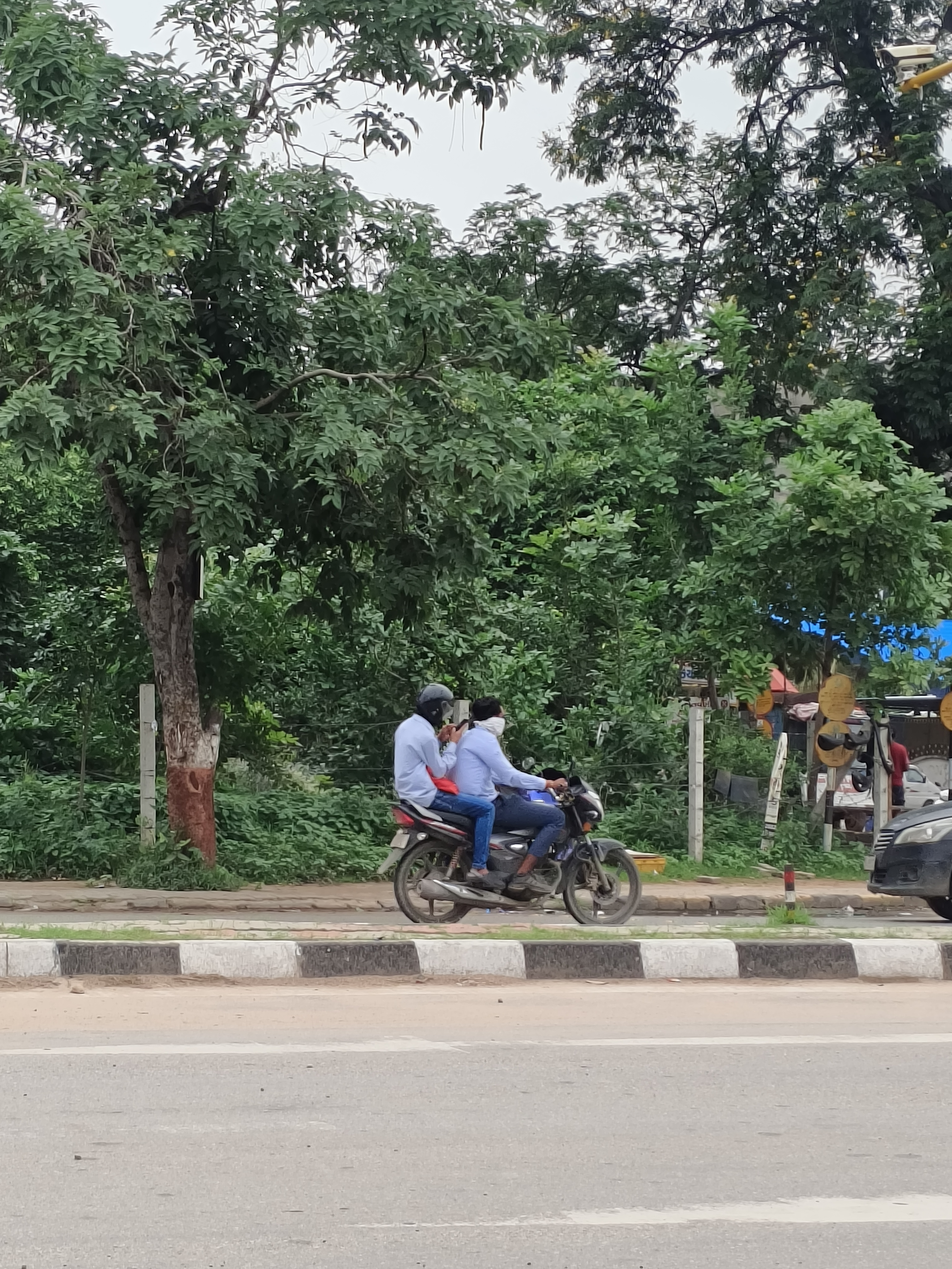BikeWithRider: (379, 674, 649, 929)
Helmet: (412, 680, 455, 731)
NoHelmet: (465, 690, 512, 743)
